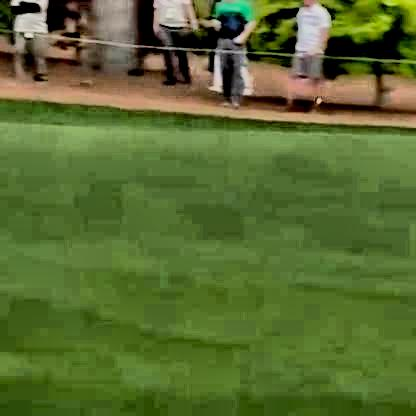golfball: (310, 91, 317, 102)
